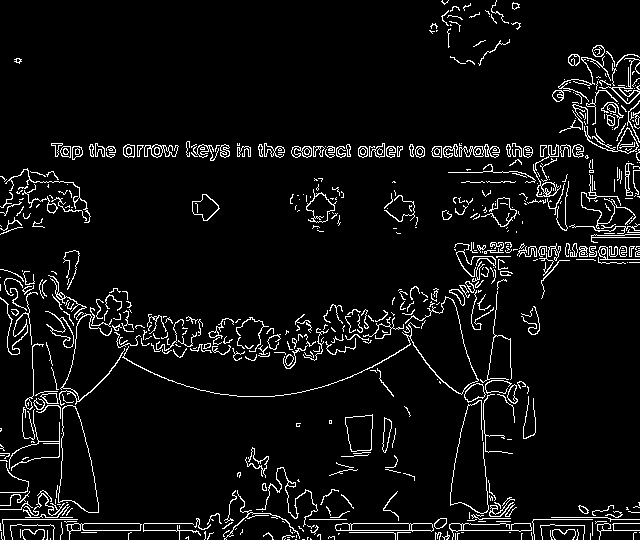down: (484, 188, 519, 236)
left: (375, 188, 418, 231)
right: (184, 187, 222, 228)
up: (304, 190, 341, 232)
